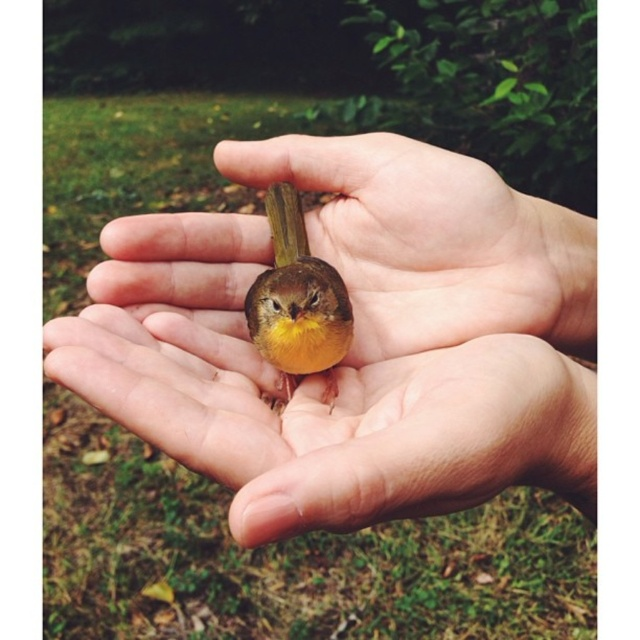Canary: (243, 181, 353, 411)
